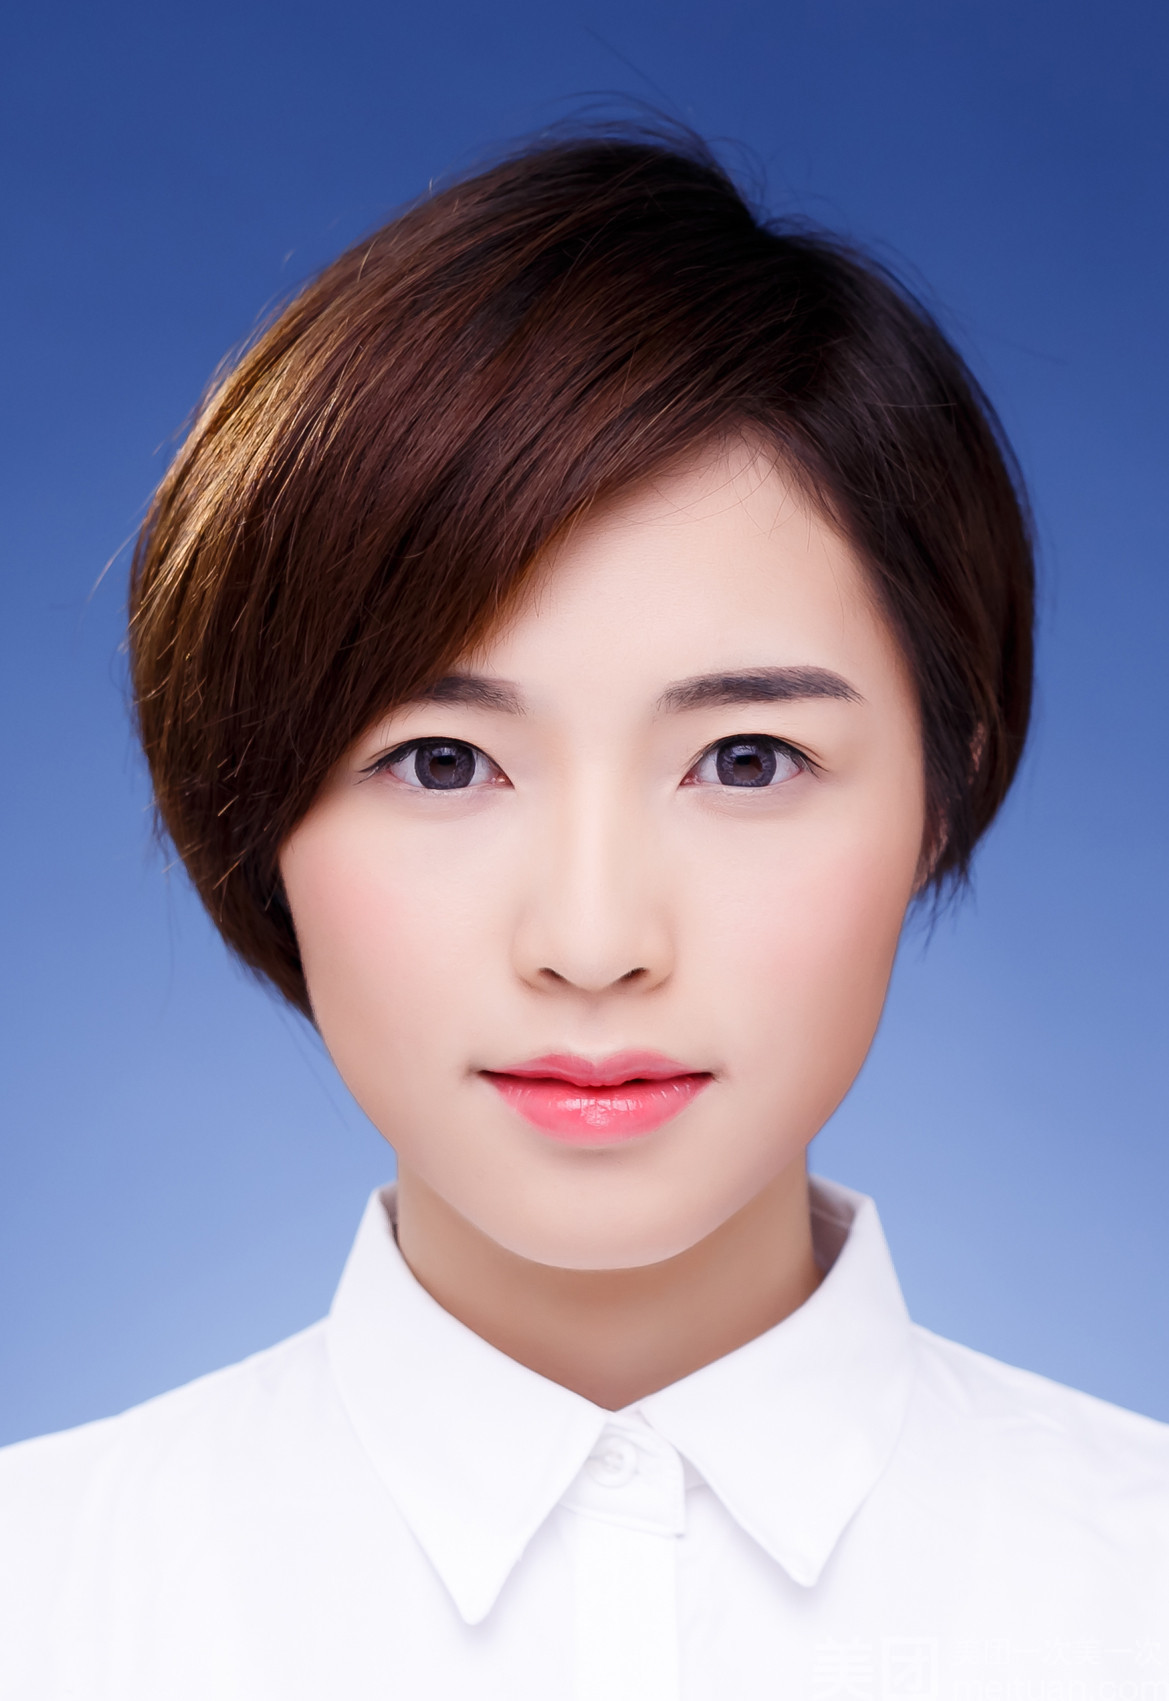unmask: (289, 500, 942, 1264)
